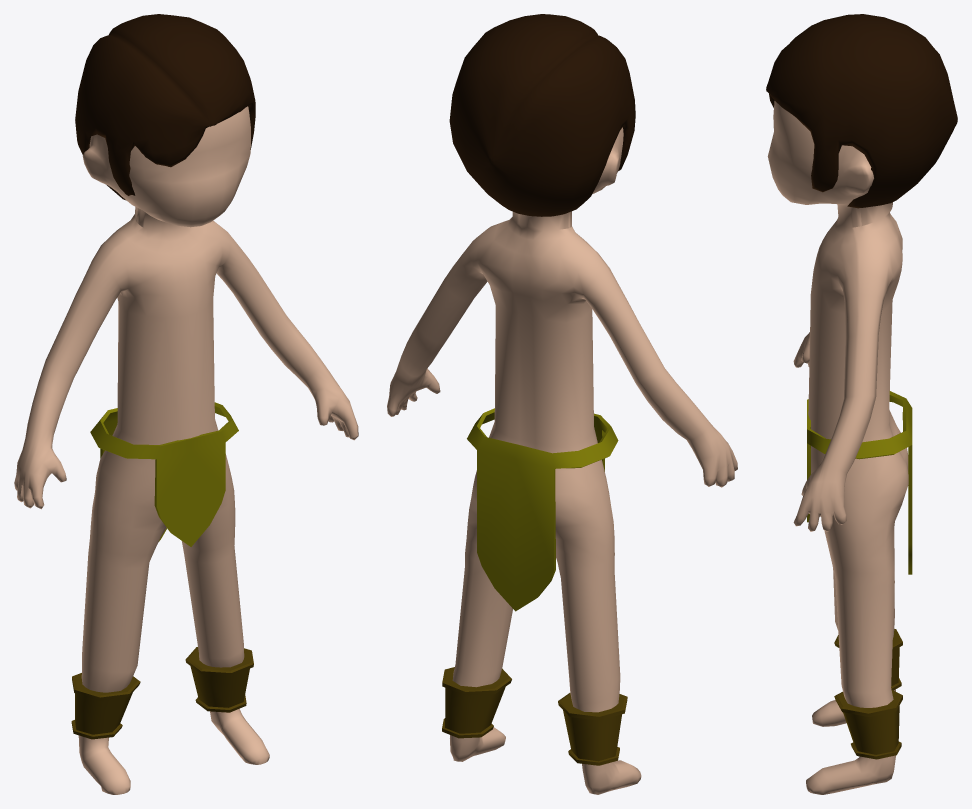
Rendered from SA_Character.FBX.
3 renders of one model, left to right at view 1: azimuth 30°, elevation 25°; view 2: azimuth 150°, elevation 25°; view 3: azimuth 270°, elevation 25°, orthographic. The views are drawn at different scales.
Visible parts, largest first — view 1: MC_Character, MC_Hair, SA_Clothes, SA_Armor; view 2: MC_Character, MC_Hair, SA_Clothes, SA_Armor; view 3: MC_Character, MC_Hair, SA_Armor, SA_Clothes.
Boxes of the visible parts, x1=… form: MC_Character: x1=14, y1=106, x2=358, y2=794; MC_Hair: x1=75, y1=14, x2=255, y2=200; SA_Clothes: x1=90, y1=402, x2=238, y2=546; SA_Armor: x1=71, y1=647, x2=253, y2=739; MC_Character: x1=387, y1=127, x2=737, y2=794; MC_Hair: x1=449, y1=14, x2=635, y2=216; SA_Clothes: x1=467, y1=408, x2=618, y2=611; SA_Armor: x1=442, y1=667, x2=627, y2=765; MC_Character: x1=767, y1=101, x2=908, y2=794; MC_Hair: x1=766, y1=14, x2=957, y2=208; SA_Armor: x1=834, y1=629, x2=902, y2=759; SA_Clothes: x1=807, y1=391, x2=912, y2=574.
Size of the model in its own units: 2.87 by 6.13 by 1.45.
